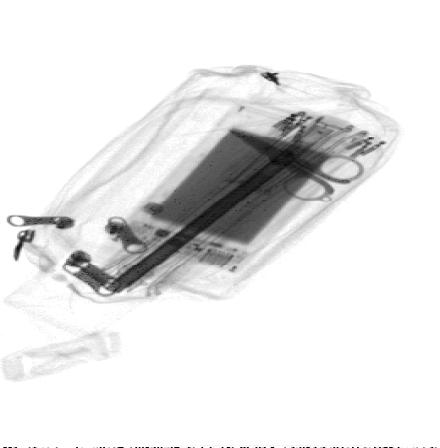Powerbank: (112, 101, 354, 274)
Scissors: (226, 126, 364, 203)
